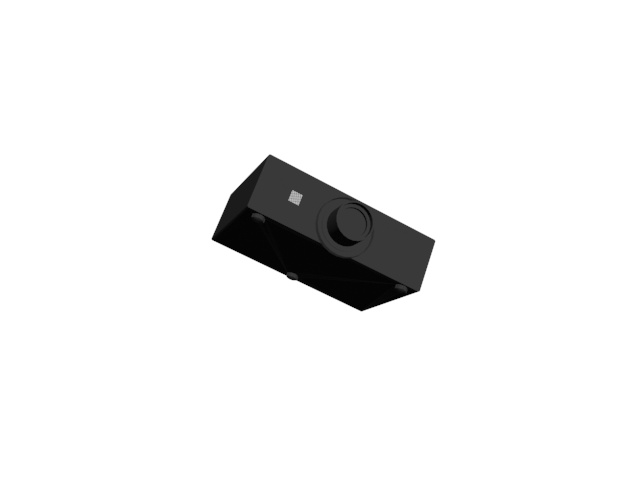projector: (209, 153, 440, 312)
